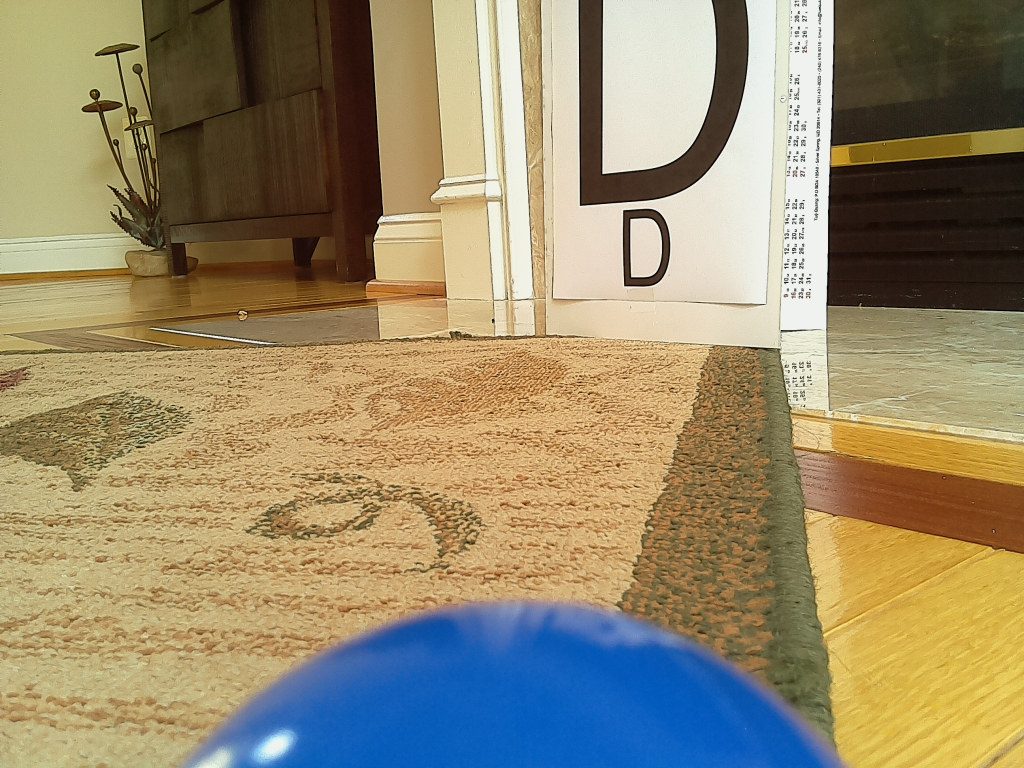letter: (578, 1, 749, 207)
